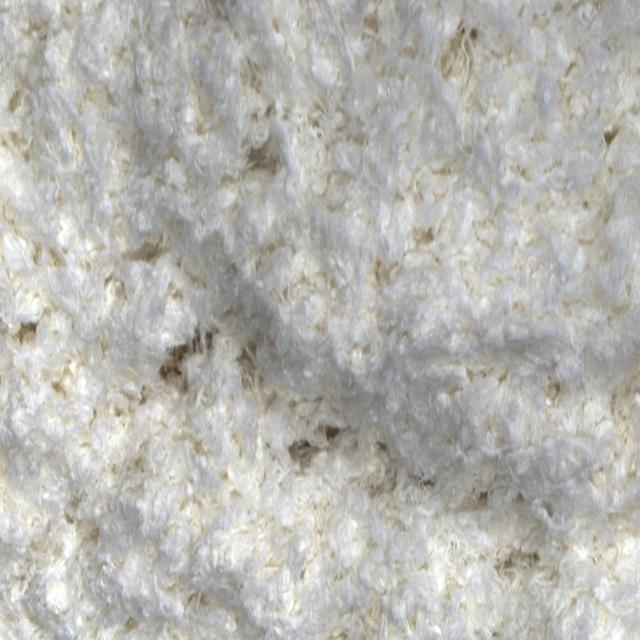dust: (147, 332, 237, 397), (281, 413, 350, 497)
